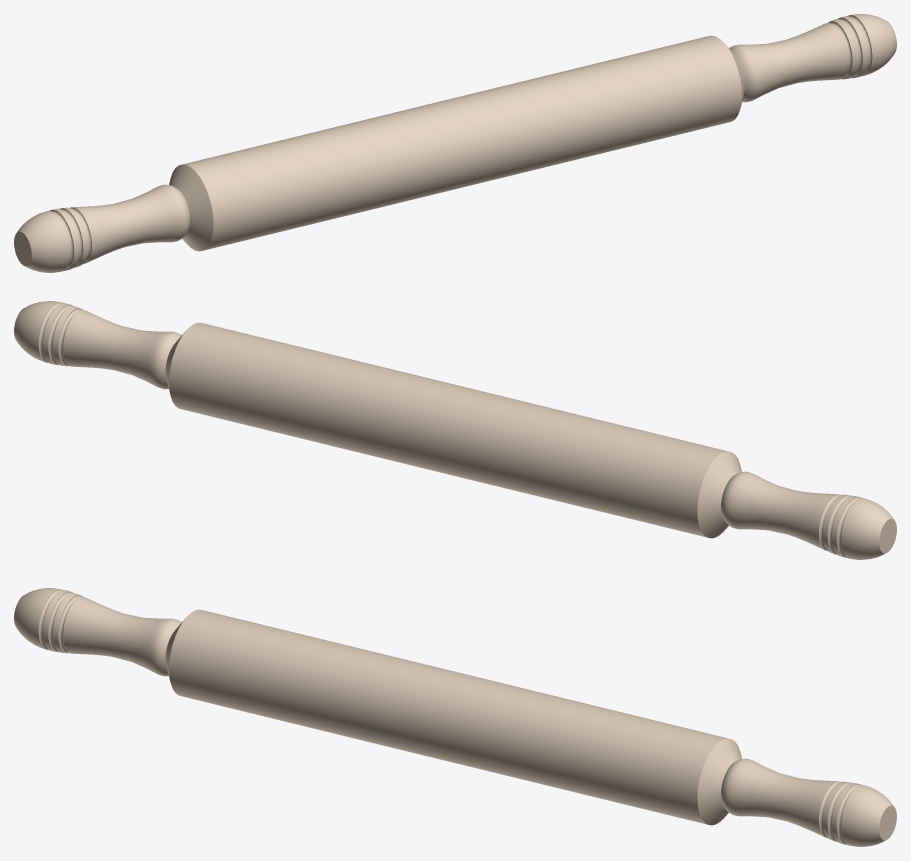
Rendered from 820_rolling_pin.glb.
3 renders of one model, top to bottom at view 1: azimuth 30°, elevation 25°; view 2: azimuth 150°, elevation 25°; view 3: azimuth 330°, elevation 25°, orthographic.
Parts seen in each view (by area): view 1: Body; view 2: Body; view 3: Body.
Boxes of the visible parts, x1=… form: Body: x1=14, y1=14, x2=896, y2=272; Body: x1=14, y1=301, x2=896, y2=559; Body: x1=14, y1=588, x2=896, y2=846.
Bounding box in the file's own units: 0.4487 × 0.04 × 0.04.
